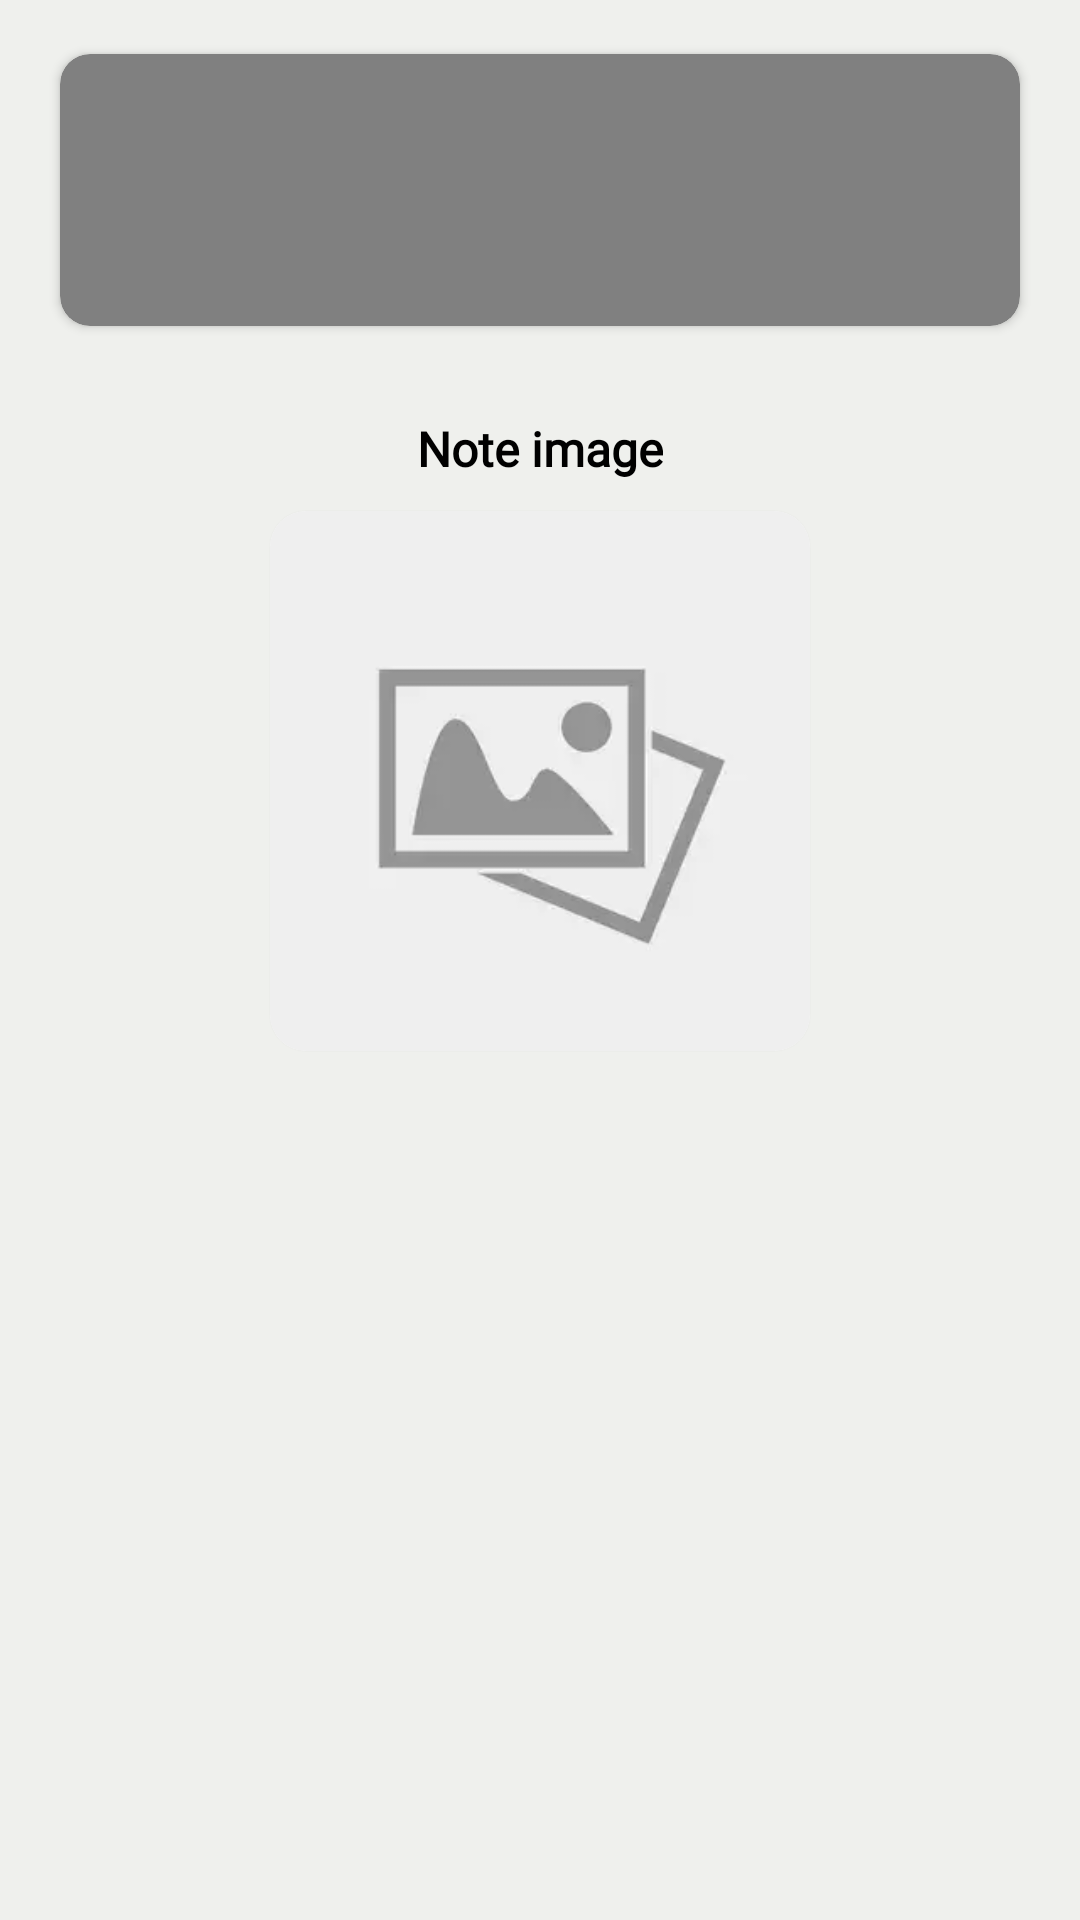

Icons on this 1080*1920 Android screen, each with the point to tap as [x,y]:
This is a image: [551,806]
